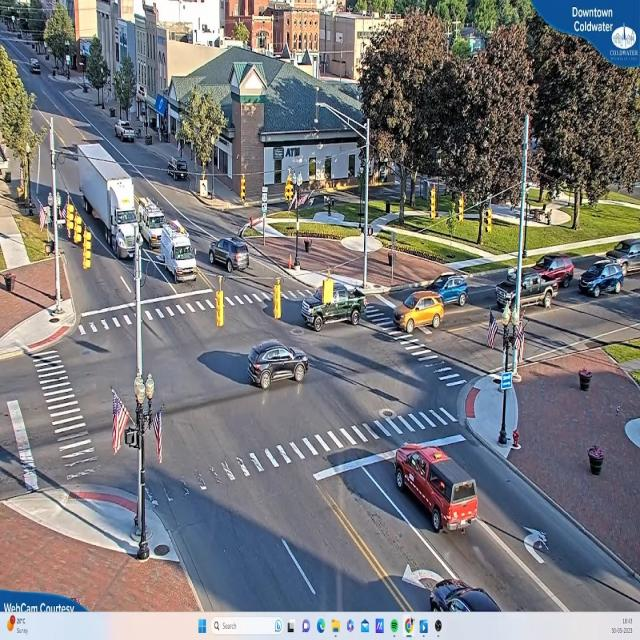car: (394, 443, 481, 534), (299, 282, 366, 329), (247, 342, 310, 389), (392, 288, 446, 335), (433, 583, 500, 612), (579, 263, 627, 297), (208, 236, 250, 274), (418, 274, 468, 304), (531, 257, 576, 289), (117, 122, 137, 144)
truck: (69, 145, 142, 259)
